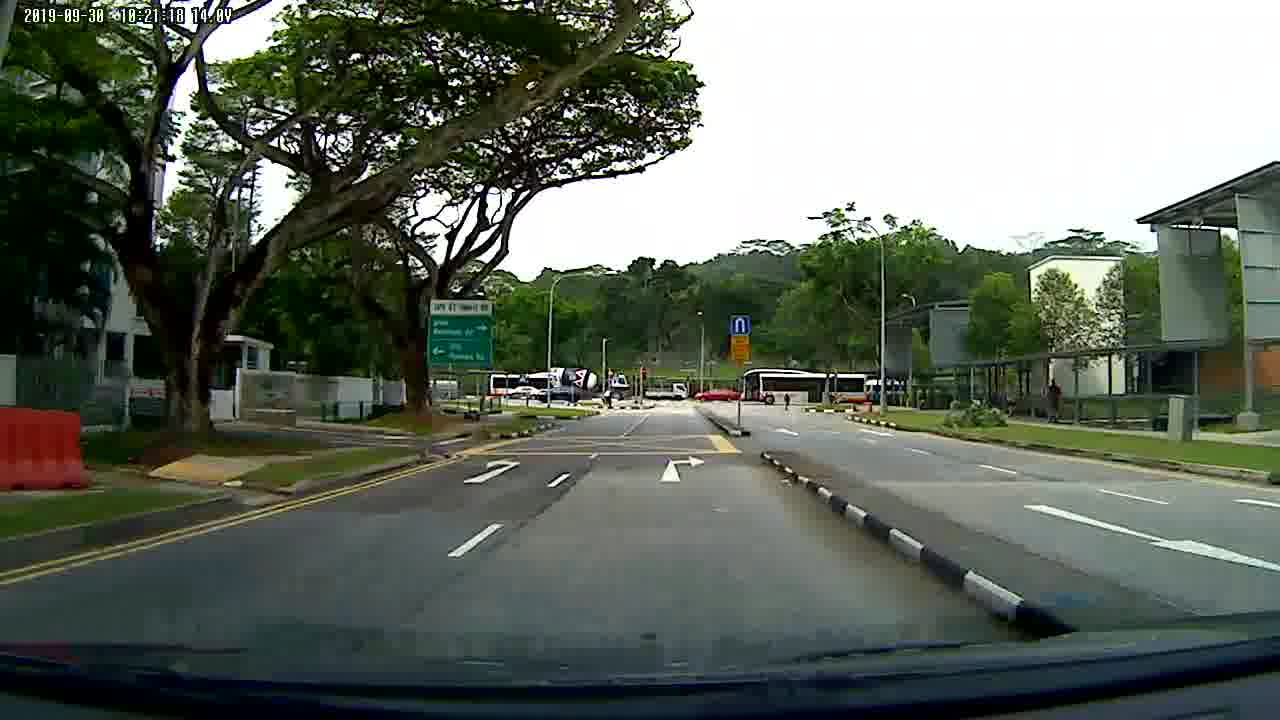bus: (739, 366, 868, 411)
car: (692, 387, 740, 405)
